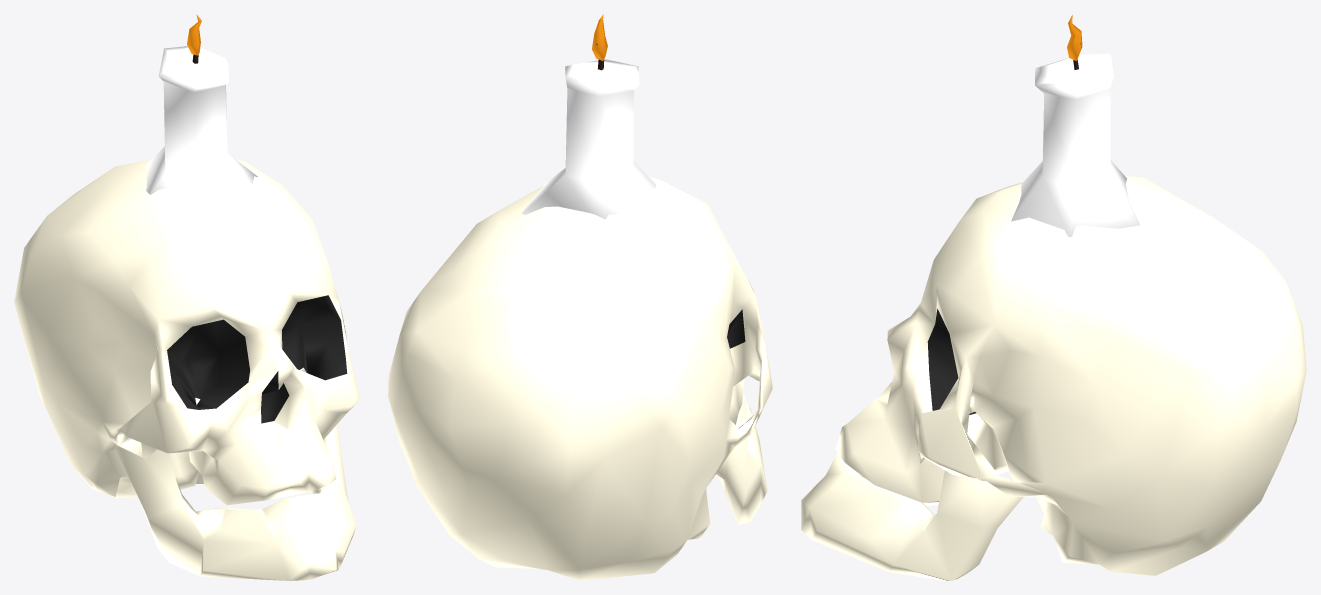
Rendered from CandleSkullShapeB.002.glb.
3 views of the same model, side by side, from view 1: azimuth 30°, elevation 25°; view 2: azimuth 150°, elevation 25°; view 3: azimuth 270°, elevation 25° (orthographic). The views are drawn at different scales.
Parts seen in each view (by area): view 1: CandleSkullShapeB.002; view 2: CandleSkullShapeB.002; view 3: CandleSkullShapeB.002.
Part boxes in pixels (bbox=[...]): CandleSkullShapeB.002: bbox=[14, 14, 359, 580]; CandleSkullShapeB.002: bbox=[388, 14, 772, 580]; CandleSkullShapeB.002: bbox=[801, 15, 1306, 580].
Size of the model in its own units: 0.2005 by 0.3649 by 0.3132.
2 materials, 2 textured.
